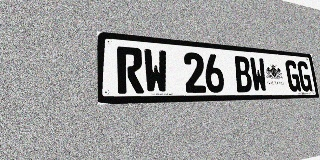2: (183, 52, 206, 93)
6: (203, 53, 225, 93)
B: (233, 56, 253, 92)
G: (285, 60, 301, 92), (297, 61, 313, 92)
R: (117, 46, 144, 94)
W: (143, 48, 169, 93), (249, 57, 268, 92)
